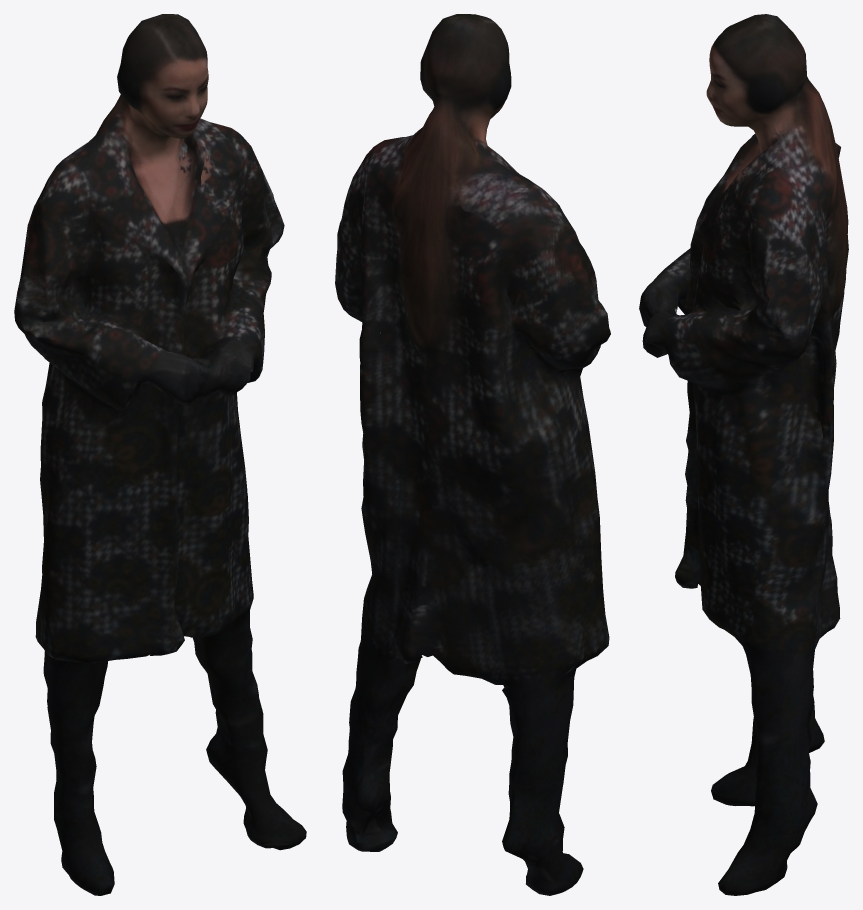
File: evercoast.0046.gltf
The picture shows the model from 3 angles, left to right: view 1: azimuth 30°, elevation 25°; view 2: azimuth 150°, elevation 25°; view 3: azimuth 270°, elevation 25°; orthographic projection. The views are drawn at different scales.
Visible parts, largest first — view 1: HIGH; view 2: HIGH; view 3: HIGH.
Boxes of the visible parts, left/top/right/bottom form: HIGH: left=14, top=14, right=306, bottom=895; HIGH: left=335, top=14, right=610, bottom=895; HIGH: left=639, top=14, right=848, bottom=895.
Bounding box in the file's own units: 0.6125 × 1.84 × 0.4238.
Materials: 1 (1 with a texture image).
